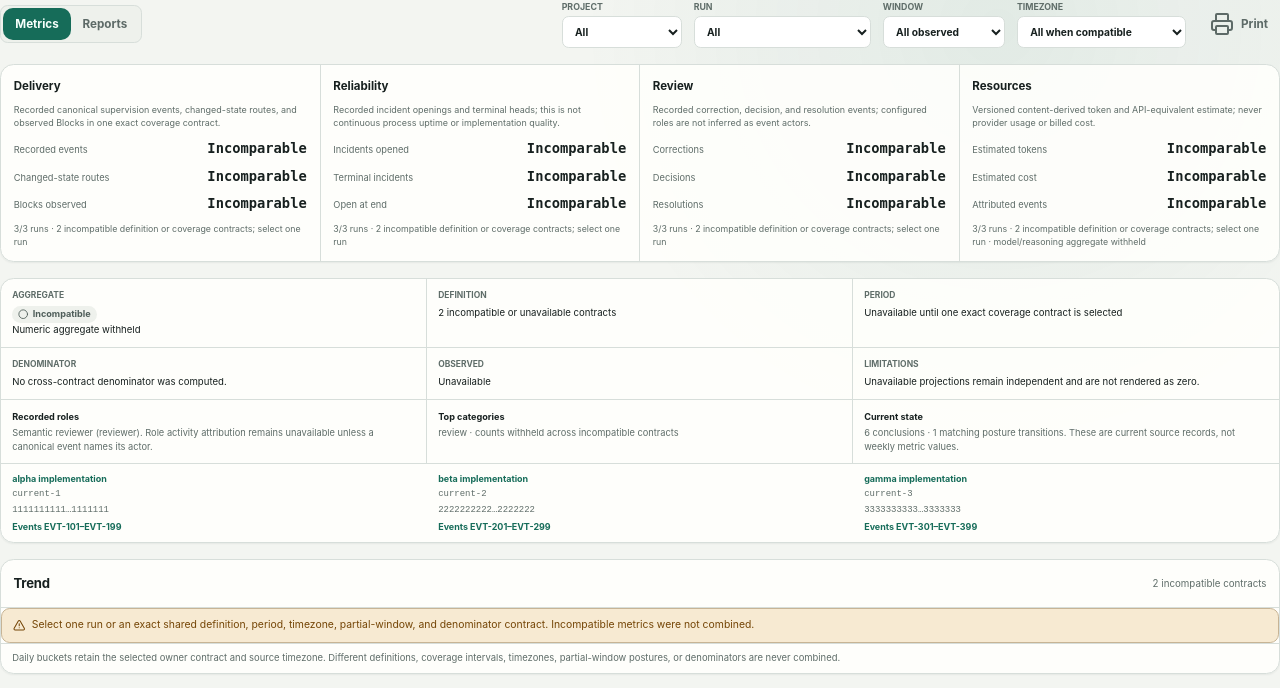
Scenario: metrics and report history workspace › does not combine source-day buckets across incompatible timezones
This screenshot has width=1280, height=688.
Check: the text "Select one run or an exact shared definition, period, timezone, partial-window, and denominator contract. Incompatible m" is shown, box [32,618,754,631]
Check: the table "Exact accessible values and sources for the metric trend" is not shown
Step 1. Select "America/Los_Angeles" in the dropdown labelled "Timezone" → (1101, 32), box [1017,16,1186,48]
(page scrolled)
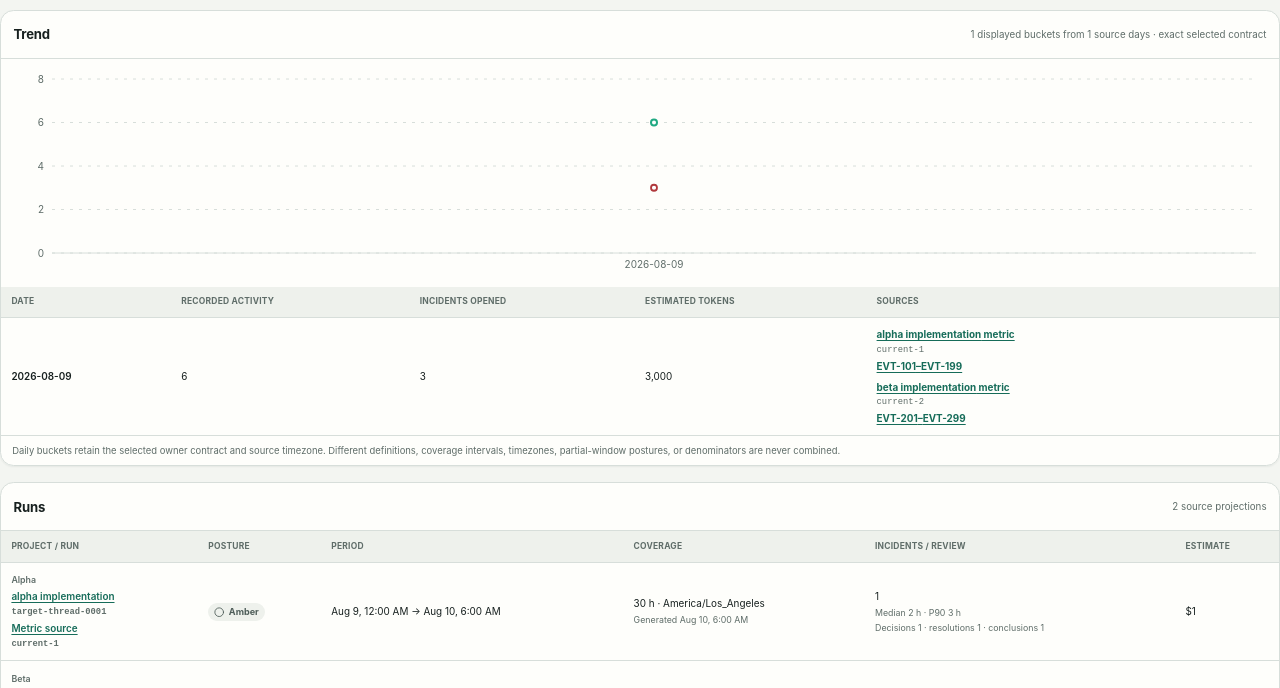
Check: the table named "Exact accessible values and sources for the metric trend" is shown, box [1,287,1279,435]
